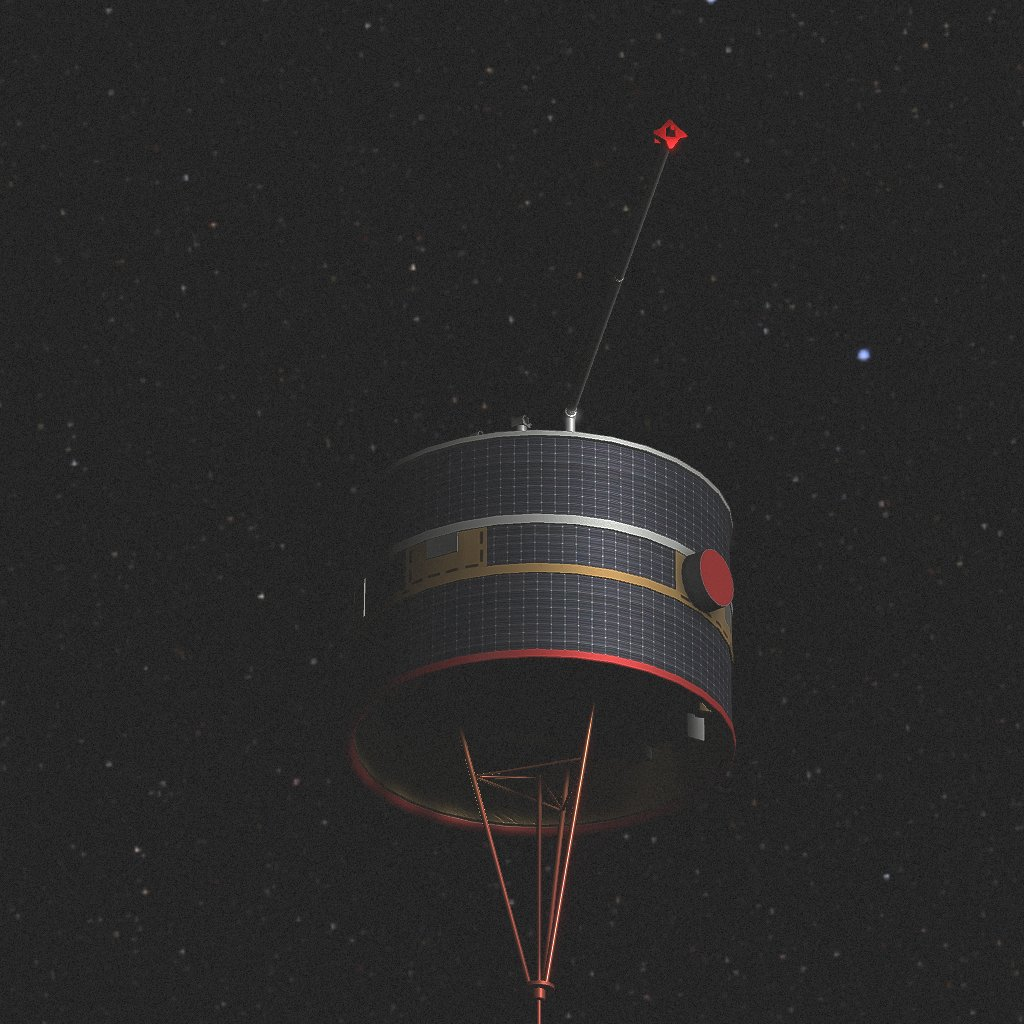double_star: (343, 120, 736, 1024)
